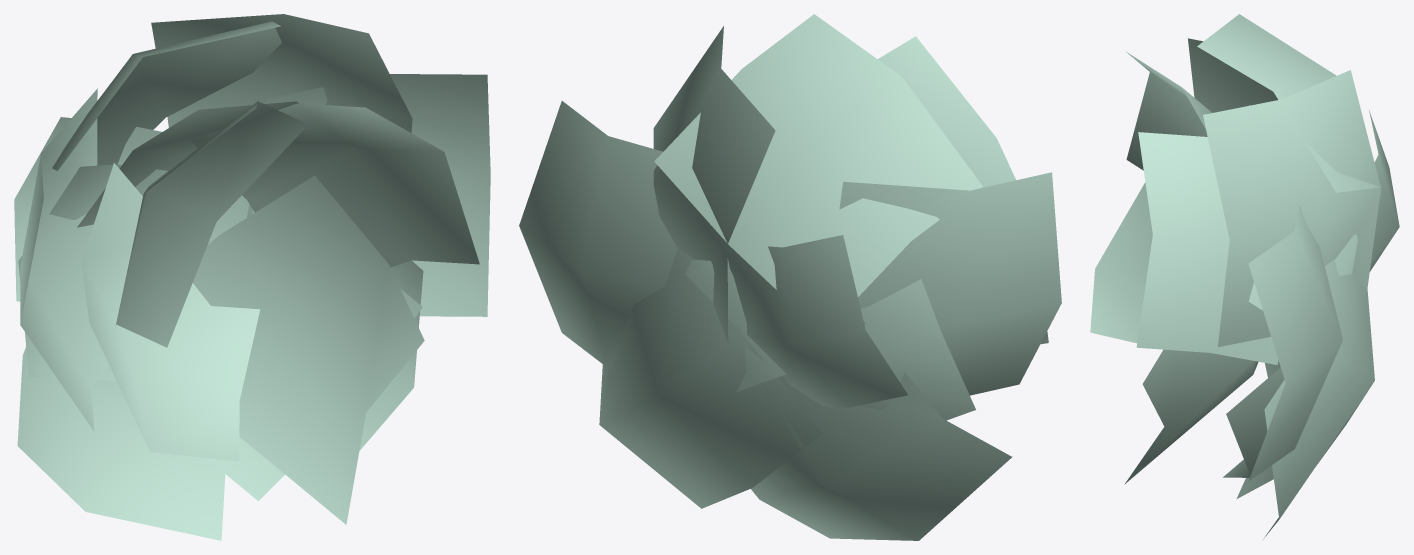
The picture shows the model from 3 angles, left to right: view 1: azimuth 30°, elevation 25°; view 2: azimuth 150°, elevation 25°; view 3: azimuth 270°, elevation 25°; orthographic projection. The views are drawn at different scales.
Visible parts, largest first — view 1: Object36; view 2: Object36; view 3: Object36.
Boxes of the visible parts, x1,y1,x2,y2 form: Object36: (14,14,490,540); Object36: (519,14,1061,540); Object36: (1090,14,1399,539).
Size of the model in its own units: 35583 by 34222 by 20435.
